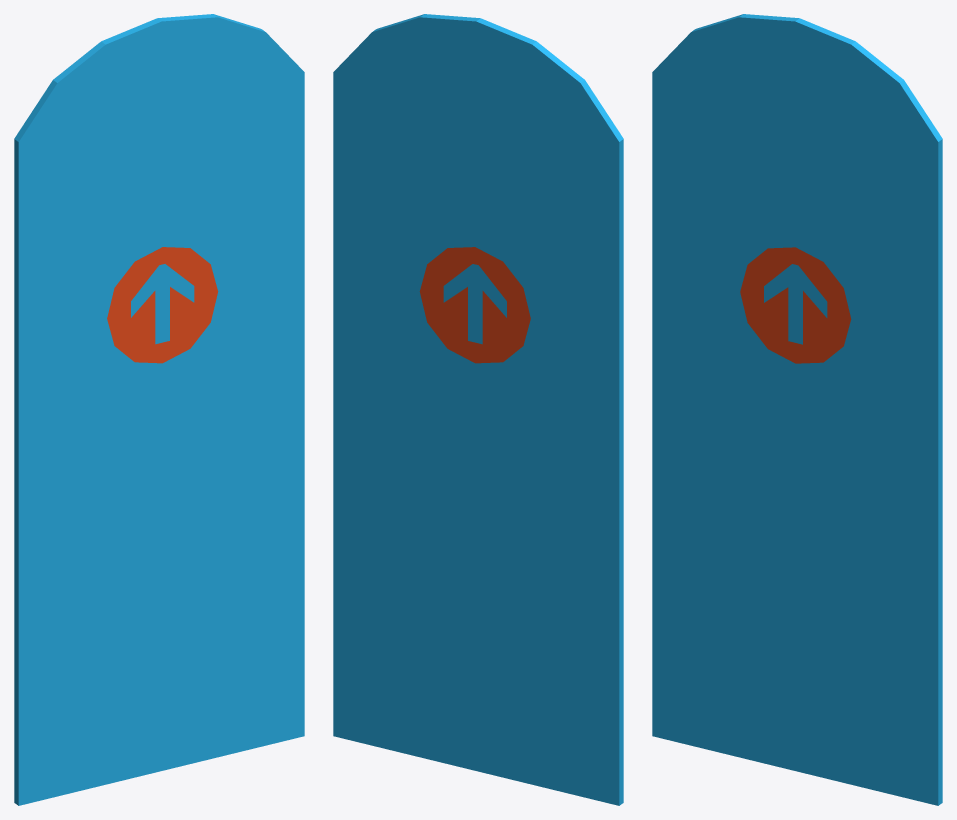
File: sm_zhajiboli_r.FBX
The picture shows the model from 3 angles, left to right: view 1: azimuth 30°, elevation 25°; view 2: azimuth 150°, elevation 25°; view 3: azimuth 330°, elevation 25°; orthographic projection.
Visible parts, largest first — view 1: sm_zhajiboli_r; view 2: sm_zhajiboli_r; view 3: sm_zhajiboli_r.
Part boxes in pixels (box(x1,y1,x2,y2)): sm_zhajiboli_r: box(14, 14, 304, 805); sm_zhajiboli_r: box(333, 14, 623, 805); sm_zhajiboli_r: box(652, 14, 942, 805).
Size of the model in its own units: 37.87 by 94.81 by 1.14.
